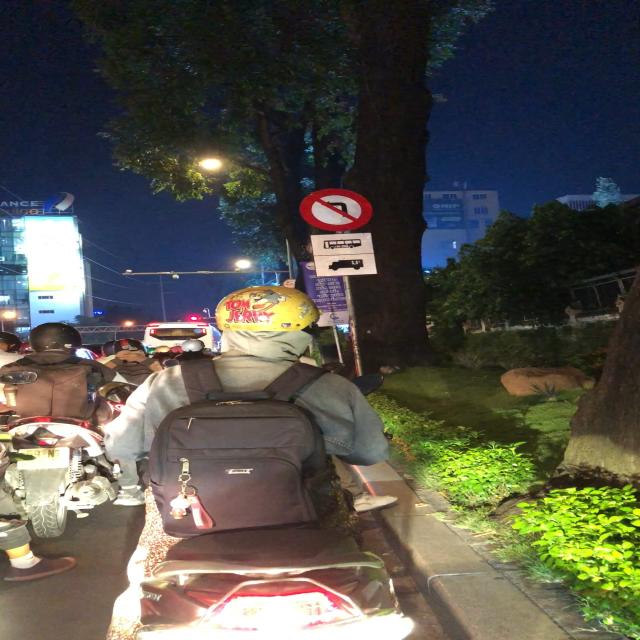Bien bao cam re trai: (297, 187, 377, 233)
